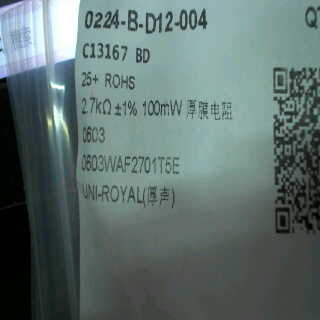2.7kR: (77, 93, 116, 120)
